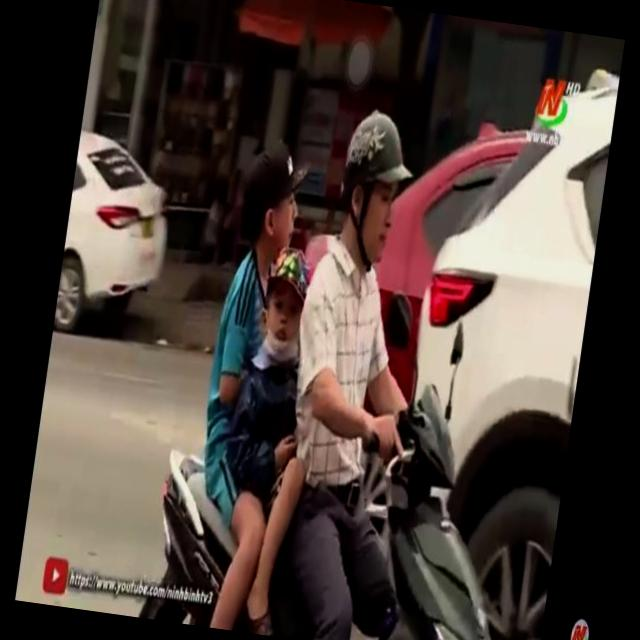motorcycle: (109, 334, 539, 640)
person: (262, 102, 430, 596), (187, 133, 322, 504), (224, 245, 334, 520)
rider_region: (138, 90, 563, 640)
